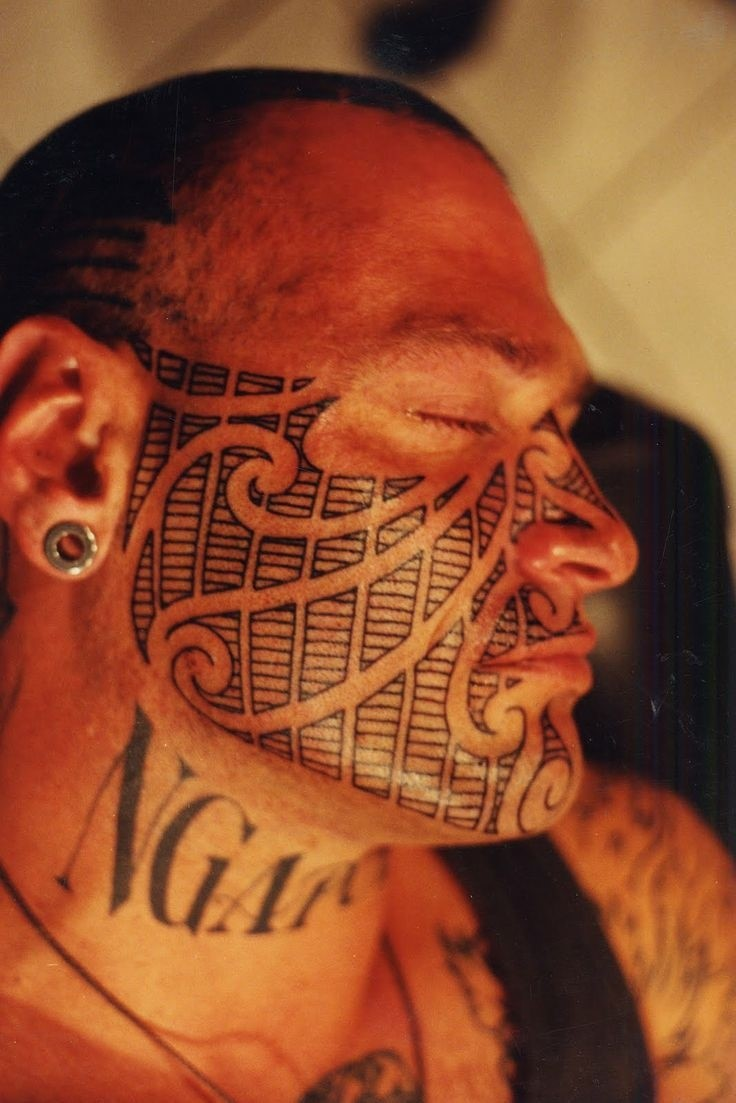face_no_mask: (1, 68, 635, 859)
